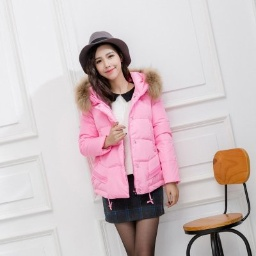face: (83, 38, 135, 90)
